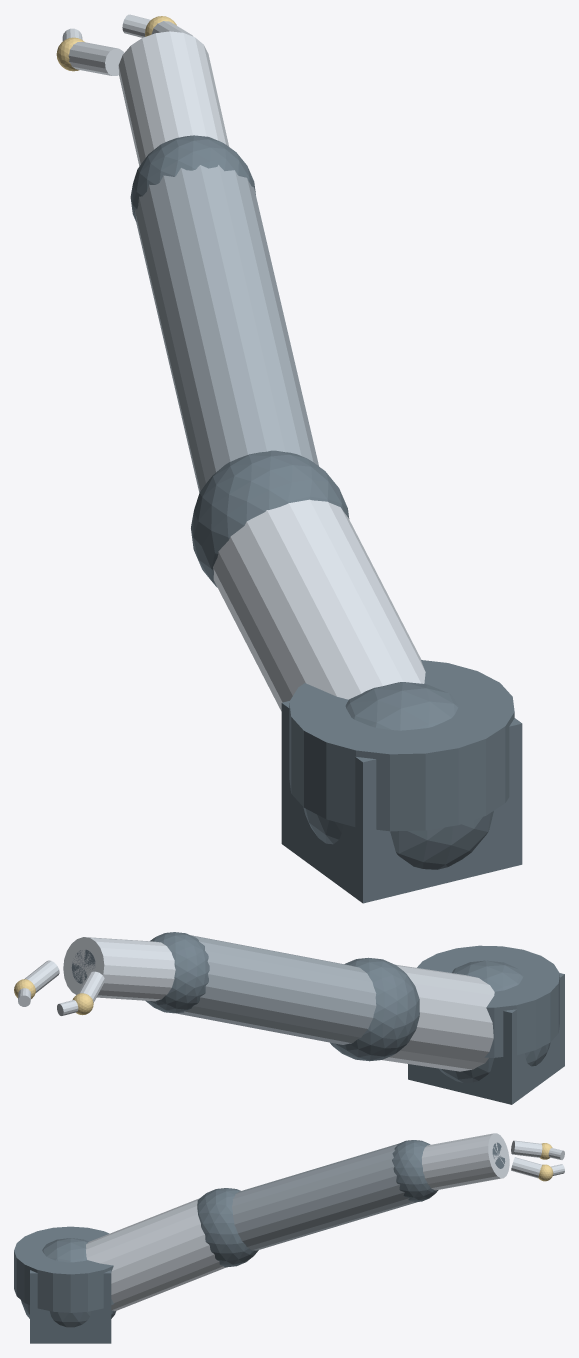
File: servicer_arm_left.glb
The picture shows the model from 3 angles, top to bottom: view 1: azimuth 30°, elevation 25°; view 2: azimuth 150°, elevation 25°; view 3: azimuth 270°, elevation 25°; orthographic projection. The views are drawn at different scales.
Visible parts, largest first — view 1: articulated forearm, primary shoulder link, shoulder yoke, robot arm mounting collar, wrist extension, joint mechanism 2, joint mechanism 1, joint mechanism 3, jaw 0 outer; view 2: articulated forearm, primary shoulder link, shoulder yoke, wrist extension, robot arm mounting collar, joint mechanism 2, joint mechanism 3, joint mechanism 1, jaw 1 outer, jaw 0 outer, wrist motor core, jaw 0 knuckle (+2 smaller); view 3: articulated forearm, primary shoulder link, shoulder yoke, wrist extension, robot arm mounting collar, joint mechanism 2, joint mechanism 3, joint mechanism 1, jaw 0 outer, jaw 1 outer.
Boxes of the visible parts, bbox=[...] form: articulated forearm: bbox=[134, 165, 318, 492]; primary shoulder link: bbox=[213, 499, 425, 711]; shoulder yoke: bbox=[289, 660, 514, 831]; robot arm mounting collar: bbox=[281, 701, 522, 903]; wrist extension: bbox=[118, 31, 229, 165]; joint mechanism 2: bbox=[191, 450, 349, 587]; joint mechanism 1: bbox=[303, 682, 493, 869]; joint mechanism 3: bbox=[130, 135, 255, 221]; jaw 0 outer: bbox=[68, 42, 123, 75]; articulated forearm: bbox=[176, 935, 376, 1044]; primary shoulder link: bbox=[382, 964, 494, 1071]; shoulder yoke: bbox=[417, 945, 559, 1057]; wrist extension: bbox=[63, 937, 175, 1001]; robot arm mounting collar: bbox=[408, 973, 564, 1104]; joint mechanism 2: bbox=[330, 957, 419, 1061]; joint mechanism 3: bbox=[145, 932, 209, 1013]; joint mechanism 1: bbox=[438, 960, 550, 1082]; jaw 1 outer: bbox=[24, 960, 59, 992]; jaw 0 outer: bbox=[78, 971, 104, 1002]; wrist motor core: bbox=[71, 949, 95, 983]; jaw 0 knuckle: bbox=[72, 993, 93, 1015]; articulated forearm: bbox=[232, 1144, 417, 1250]; primary shoulder link: bbox=[86, 1198, 226, 1311]; shoulder yoke: bbox=[14, 1226, 114, 1312]; wrist extension: bbox=[422, 1133, 509, 1190]; robot arm mounting collar: bbox=[30, 1270, 111, 1343]; joint mechanism 2: bbox=[197, 1188, 258, 1267]; joint mechanism 3: bbox=[392, 1140, 438, 1202]; joint mechanism 1: bbox=[21, 1238, 116, 1327]; jaw 0 outer: bbox=[511, 1140, 542, 1157]; jaw 1 outer: bbox=[511, 1157, 541, 1178].
Bounding box in the file's own units: 0.566 × 0.7661 × 1.56.
